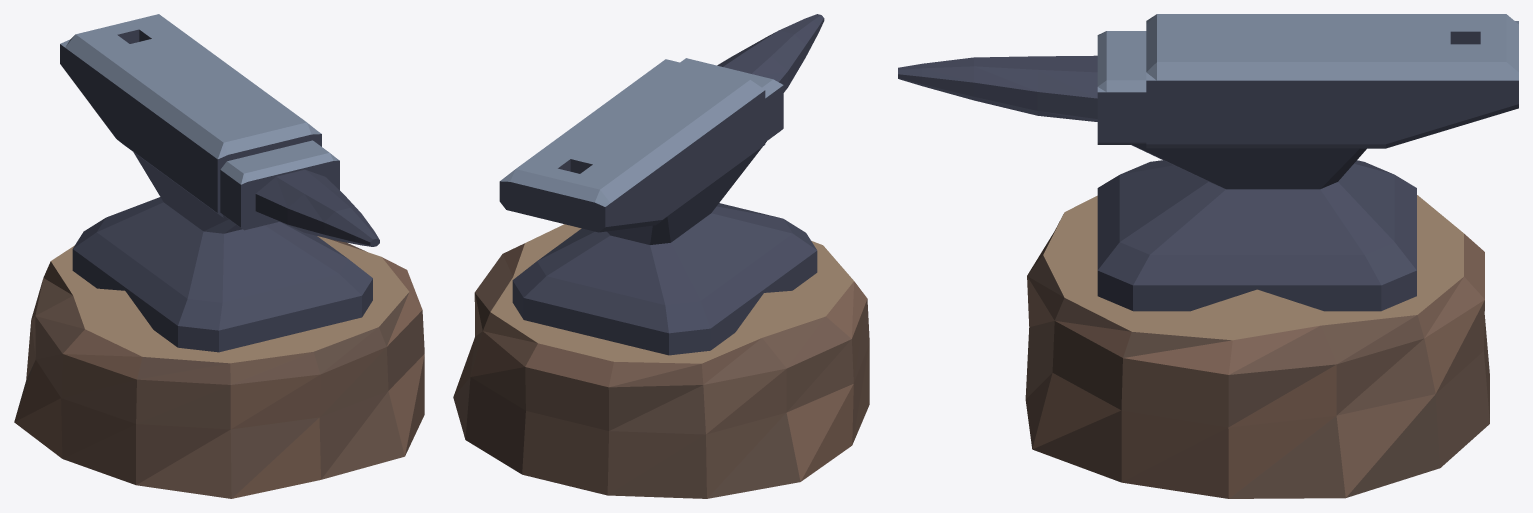
Rendered from anvil-0ad53c.glb.
3 renders of one model, left to right at view 1: azimuth 30°, elevation 25°; view 2: azimuth 150°, elevation 25°; view 3: azimuth 270°, elevation 25°, orthographic. The views are drawn at different scales.
Parts seen in each view (by area): view 1: anvil-metal, anvil-matte; view 2: anvil-matte, anvil-metal; view 3: anvil-metal, anvil-matte.
Boxes of the visible parts, box(x1,y1,x2,y2) form: anvil-metal: box(60, 14, 379, 352); anvil-matte: box(14, 236, 424, 498); anvil-matte: box(453, 224, 869, 498); anvil-metal: box(499, 14, 824, 355); anvil-metal: box(898, 14, 1518, 311); anvil-matte: box(1025, 195, 1489, 498).
Size of the model in its own units: 0.5345 by 0.45 by 0.7.
